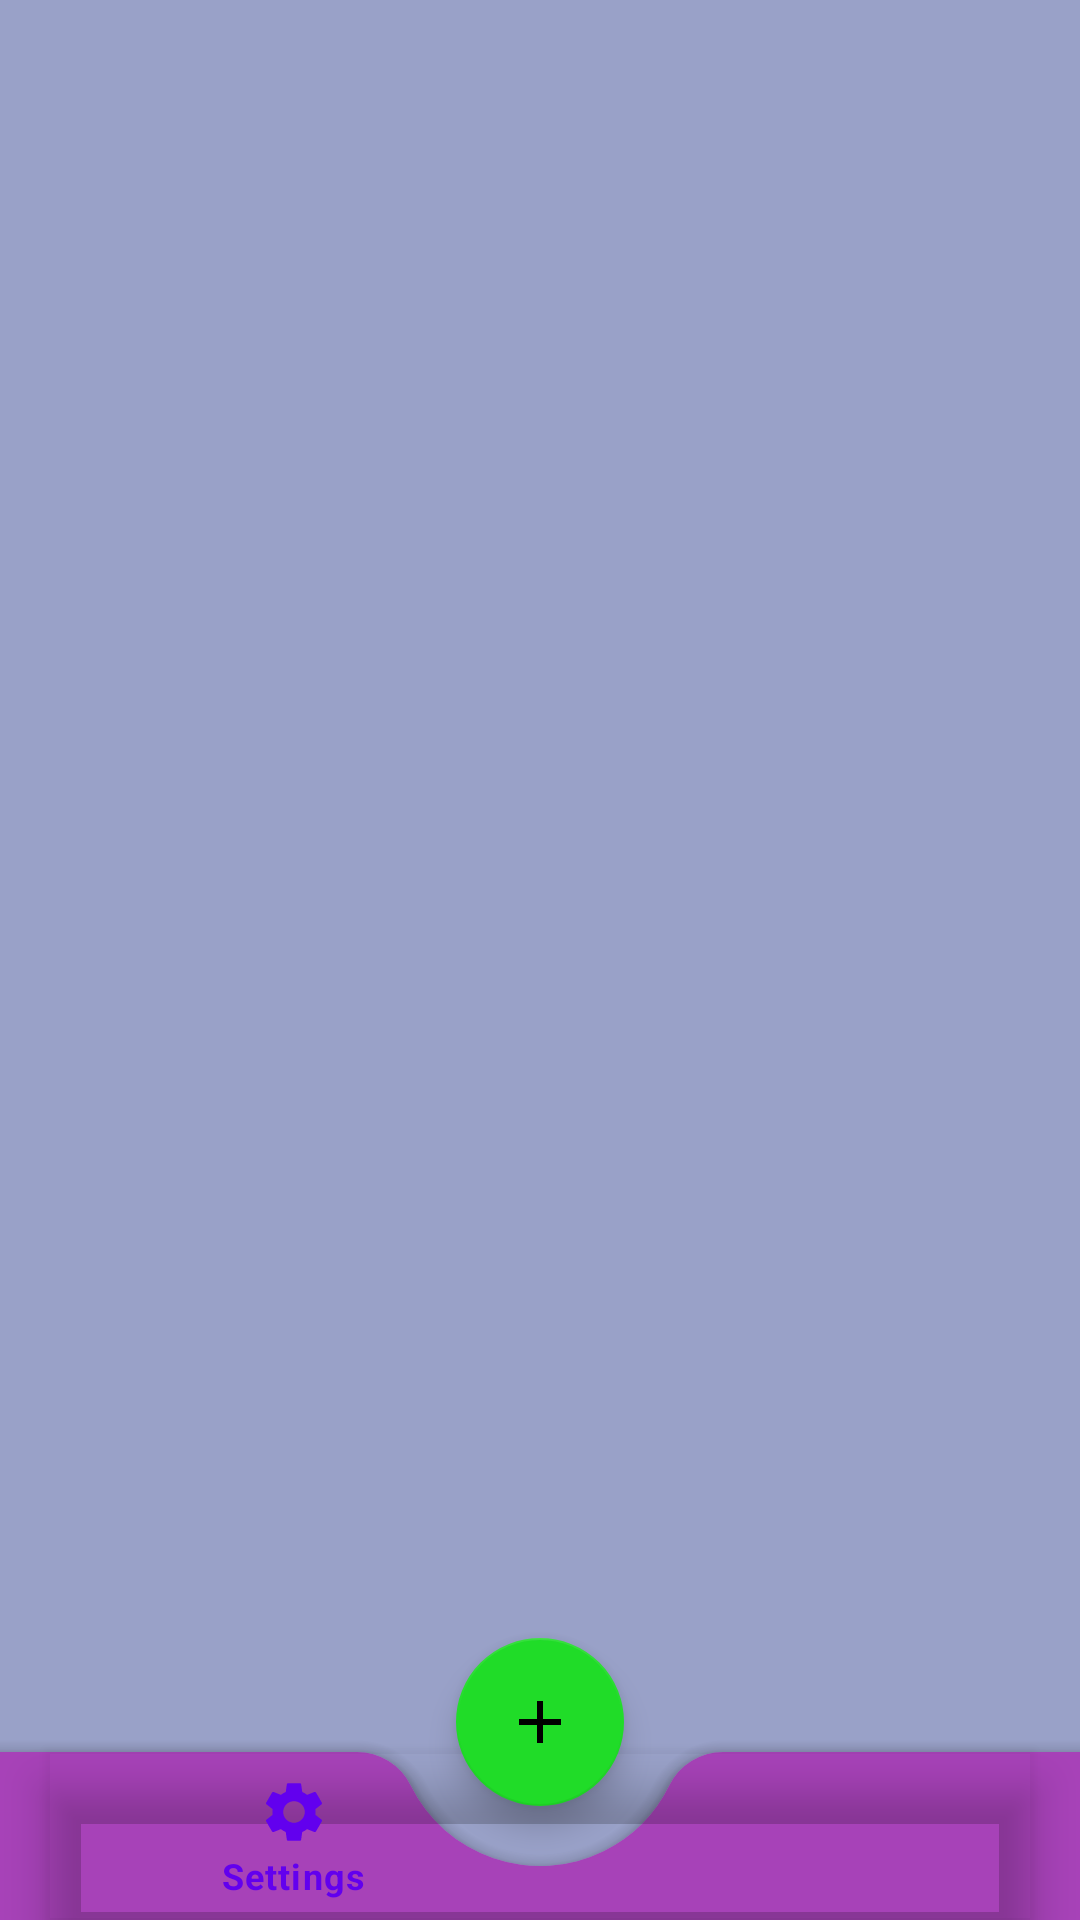

Screen size 1080px x 1920px. Icon name, then its box in pixels as Rect(x1, y1, x2, y2):
add: Rect(456, 1668, 624, 1824)
